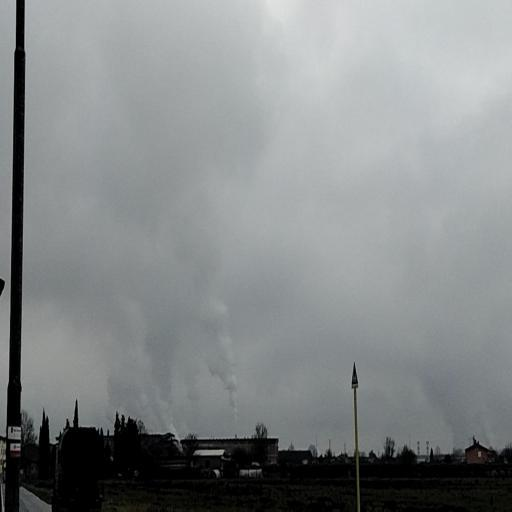leakage: (48, 202, 247, 460)
